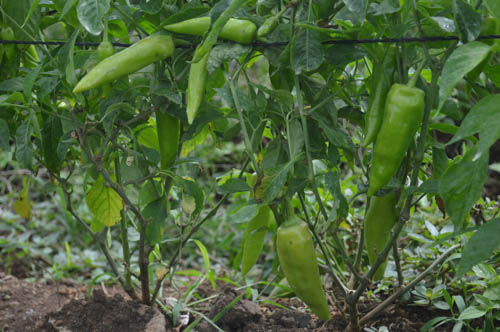ChiliPepper: (367, 85, 424, 196), (73, 36, 175, 95), (277, 222, 329, 320), (365, 194, 401, 284), (168, 16, 258, 45), (240, 207, 273, 280), (366, 68, 387, 149), (186, 45, 206, 129)
